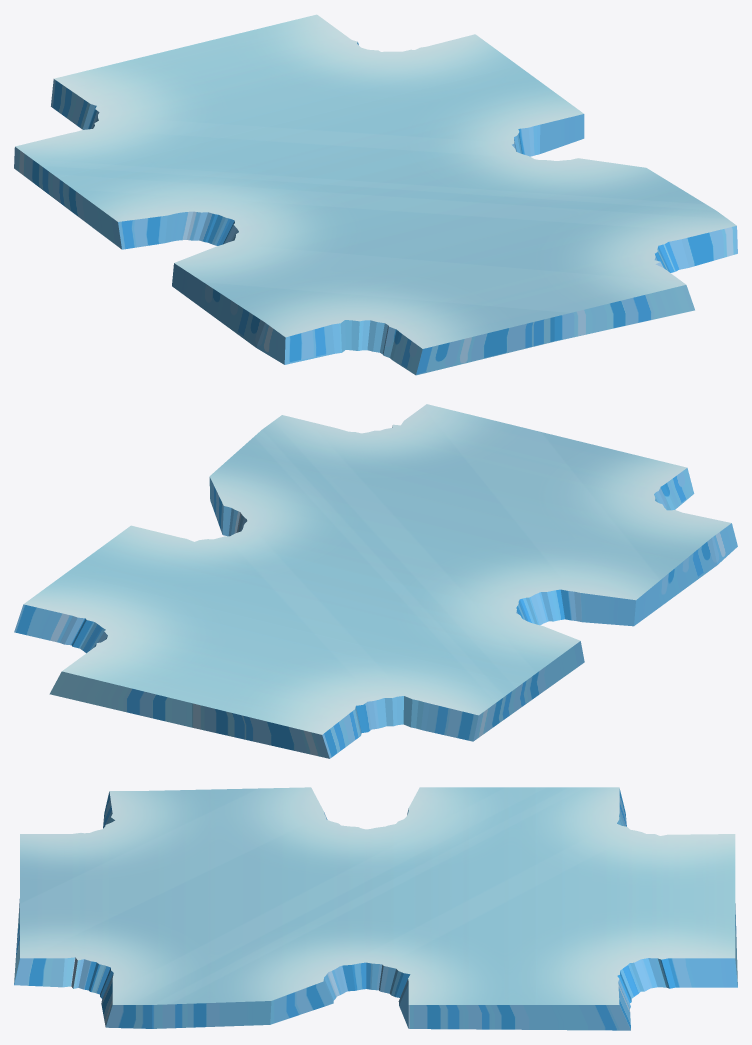
File: BgMD_Field_Ground_0101.fbx
The picture shows the model from 3 angles, top to bottom: view 1: azimuth 30°, elevation 25°; view 2: azimuth 150°, elevation 25°; view 3: azimuth 270°, elevation 25°; orthographic projection. The views are drawn at different scales.
Parts seen in each view (by area): view 1: Field_Ground; view 2: Field_Ground; view 3: Field_Ground.
Part boxes in pixels (box(x1,y1,x2,y2)): Field_Ground: box(14, 14, 737, 375); Field_Ground: box(14, 404, 737, 758); Field_Ground: box(14, 787, 737, 1030).
Bounding box in the file's own units: 489 × 24.94 × 682.
